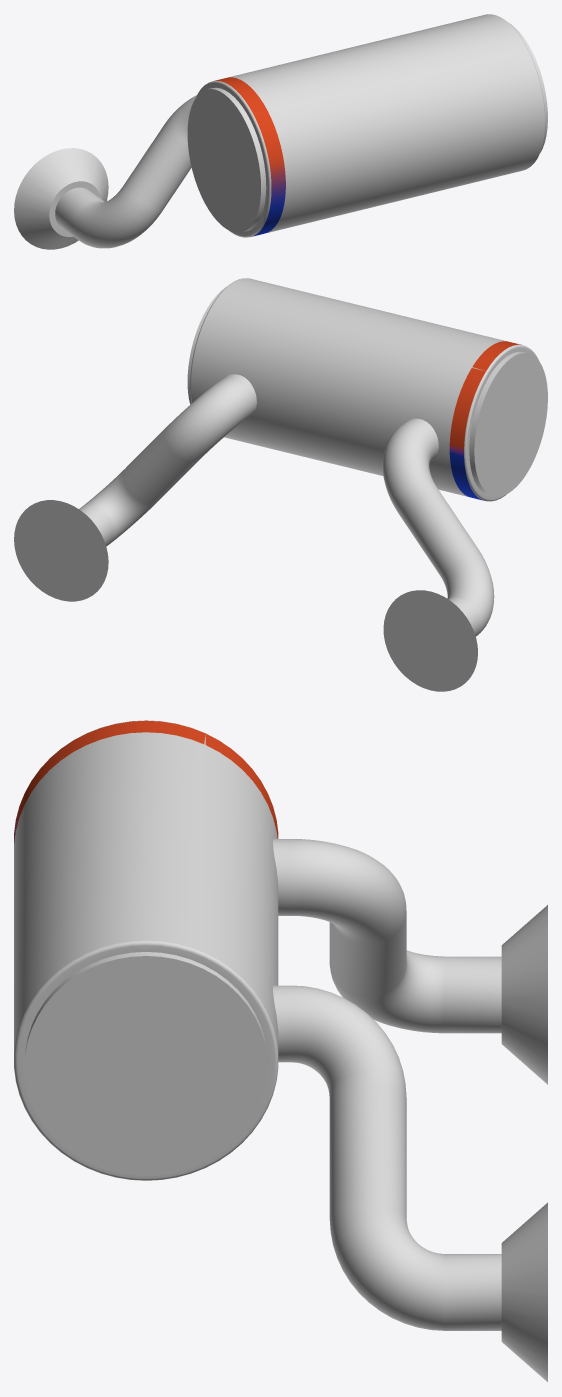
The model's file is faucet2_body.fbx.
3 renders of one model, top to bottom at view 1: azimuth 30°, elevation 25°; view 2: azimuth 150°, elevation 25°; view 3: azimuth 270°, elevation 25°, orthographic. The views are drawn at different scales.
Parts seen in each view (by area): view 1: attribwrangle1; view 2: attribwrangle1; view 3: attribwrangle1.
Part boxes in pixels (x1=…): attribwrangle1: x1=14, y1=14, x2=547, y2=249; attribwrangle1: x1=14, y1=278, x2=547, y2=691; attribwrangle1: x1=14, y1=720, x2=547, y2=1381.
Bounding box in the file's own units: 1.03 × 0.5089 × 0.6238.
